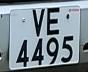4: (14, 36, 31, 70), (30, 36, 46, 66)
5: (60, 33, 76, 64)
9: (45, 36, 61, 66)
E: (45, 6, 61, 39)
V: (30, 6, 47, 40)
